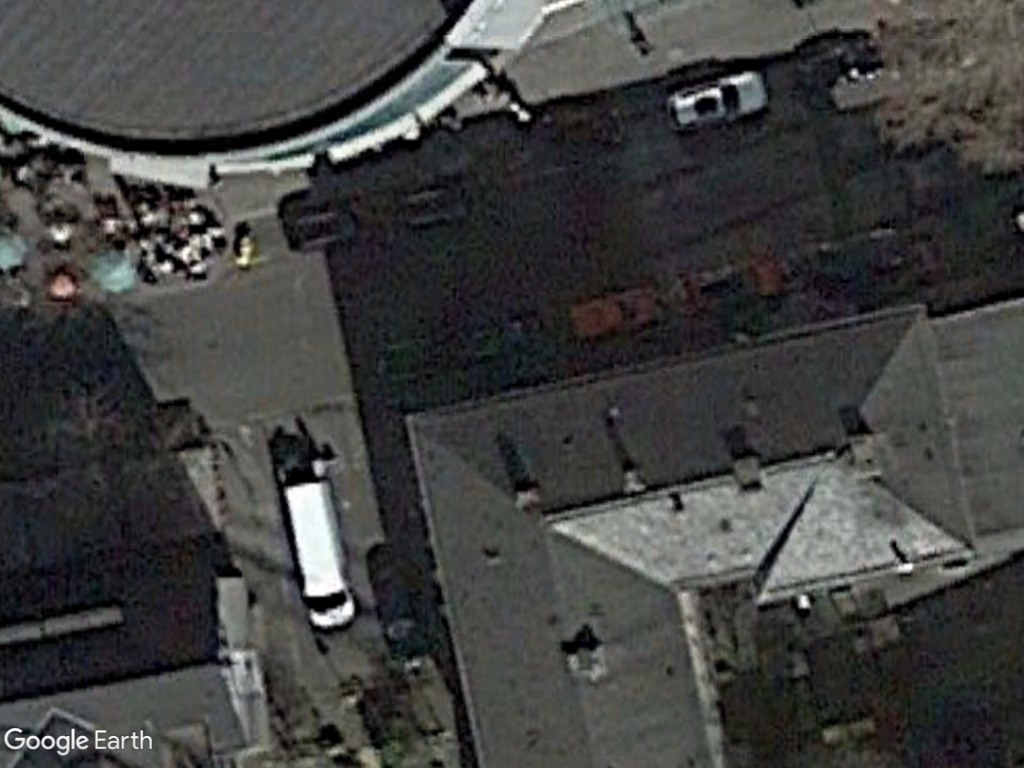car: (658, 68, 770, 133)
van: (280, 477, 364, 636)
